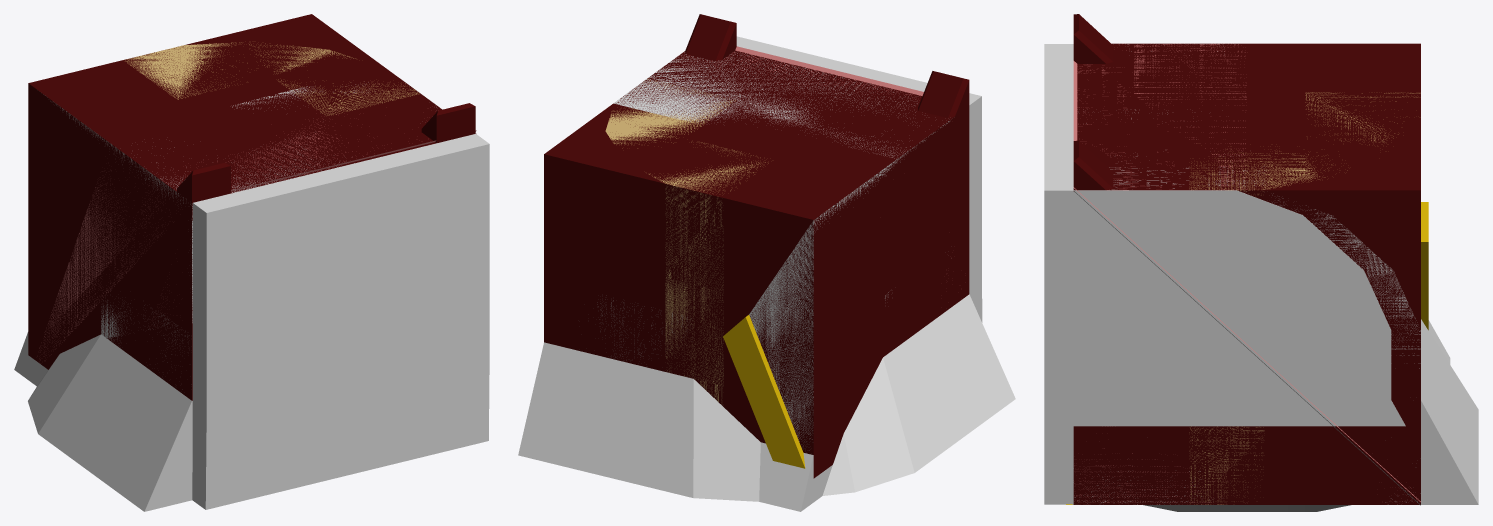
File: ModelsBlocks.fbx
3 renders of one model, left to right at view 1: azimuth 30°, elevation 25°; view 2: azimuth 150°, elevation 25°; view 3: azimuth 270°, elevation 25°, orthographic. The views are drawn at different scales.
Parts seen in each view (by area): view 1: RoofCurvedEdge, CubeCurvedCorner, Cube, RoofCurvedCorner, CubeEdgeTwisted, CubeDamagedEdge, StairsFullStraight, CubeCurvedEdge1, CubeFleshSloped, StairsHalfCurved, Bridge, CubeWindowWarped; view 2: Cube, RoofCurvedCorner, CubeCurvedCorner, CubeDamagedEdge, CubeEdgeTwisted, CubeWindowWarped, RoofRampGreen, RoofCurvedEdge, CubeCurvedEdge1, Bridge, CubeWindow, RoofRampYellow (+3 smaller); view 3: RoofCurvedEdge, CubeDamagedEdge, CubeCurvedCorner, CubeEdgeTwisted, StairsHalfCurved, Cube, RoofCurvedCorner, StairsFullStraight, CubeCurvedEdge1, CubeWindowWarped, Bridge, PathT (+3 smaller).
Boxes of the visible parts, bbox=[...] form: RoofCurvedEdge: bbox=[14, 79, 489, 509]; CubeCurvedCorner: bbox=[28, 40, 441, 399]; Cube: bbox=[28, 14, 429, 370]; RoofCurvedCorner: bbox=[28, 82, 436, 511]; CubeEdgeTwisted: bbox=[30, 16, 430, 378]; CubeDamagedEdge: bbox=[29, 14, 436, 399]; StairsFullStraight: bbox=[36, 103, 475, 365]; CubeCurvedEdge1: bbox=[125, 42, 419, 115]; CubeFleshSloped: bbox=[37, 83, 378, 363]; StairsHalfCurved: bbox=[28, 323, 192, 400]; Bridge: bbox=[28, 206, 166, 367]; CubeWindowWarped: bbox=[85, 15, 428, 191]; Cube: bbox=[544, 51, 956, 454]; RoofCurvedCorner: bbox=[518, 52, 1015, 501]; CubeCurvedCorner: bbox=[599, 50, 965, 454]; CubeDamagedEdge: bbox=[544, 51, 969, 443]; CubeEdgeTwisted: bbox=[544, 62, 961, 402]; CubeWindowWarped: bbox=[544, 51, 943, 454]; RoofRampGreen: bbox=[724, 121, 949, 468]; RoofCurvedEdge: bbox=[626, 36, 982, 511]; CubeCurvedEdge1: bbox=[605, 78, 768, 404]; Bridge: bbox=[813, 296, 881, 478]; CubeWindow: bbox=[544, 154, 813, 452]; RoofRampYellow: bbox=[723, 153, 905, 468]; RoofCurvedEdge: bbox=[1044, 44, 1450, 504]; CubeDamagedEdge: bbox=[1073, 43, 1420, 504]; CubeCurvedCorner: bbox=[1073, 43, 1420, 504]; CubeEdgeTwisted: bbox=[1074, 43, 1420, 481]; StairsHalfCurved: bbox=[1073, 426, 1420, 504]; Cube: bbox=[1074, 43, 1420, 504]; RoofCurvedCorner: bbox=[1072, 109, 1478, 504]; StairsFullStraight: bbox=[1073, 14, 1420, 504]; CubeCurvedEdge1: bbox=[1189, 92, 1420, 504]; CubeWindowWarped: bbox=[1075, 43, 1420, 503]; Bridge: bbox=[1073, 318, 1420, 504]; PathT: bbox=[1143, 505, 1350, 511].
Bounding box in the file's own units: 235 × 225 × 250.
